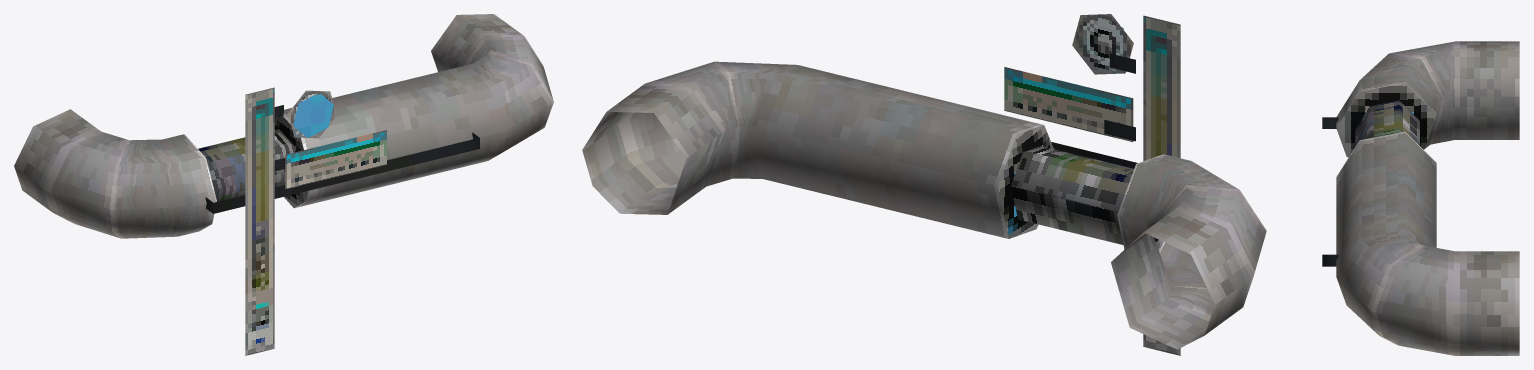
The model's file is pob_station_conduit_l2.fbx.
3 renders of one model, left to right at view 1: azimuth 30°, elevation 25°; view 2: azimuth 150°, elevation 25°; view 3: azimuth 270°, elevation 25°, orthographic. The views are drawn at different scales.
Visible parts, largest first — view 1: mesh_node; view 2: mesh_node; view 3: mesh_node.
Boxes of the visible parts, <box> form: mesh_node: <box>14,14,553,355</box>; mesh_node: <box>582,14,1266,355</box>; mesh_node: <box>1322,41,1519,355</box>.
Bounding box in the file's own units: 1.02 × 0.5113 × 0.3765.
